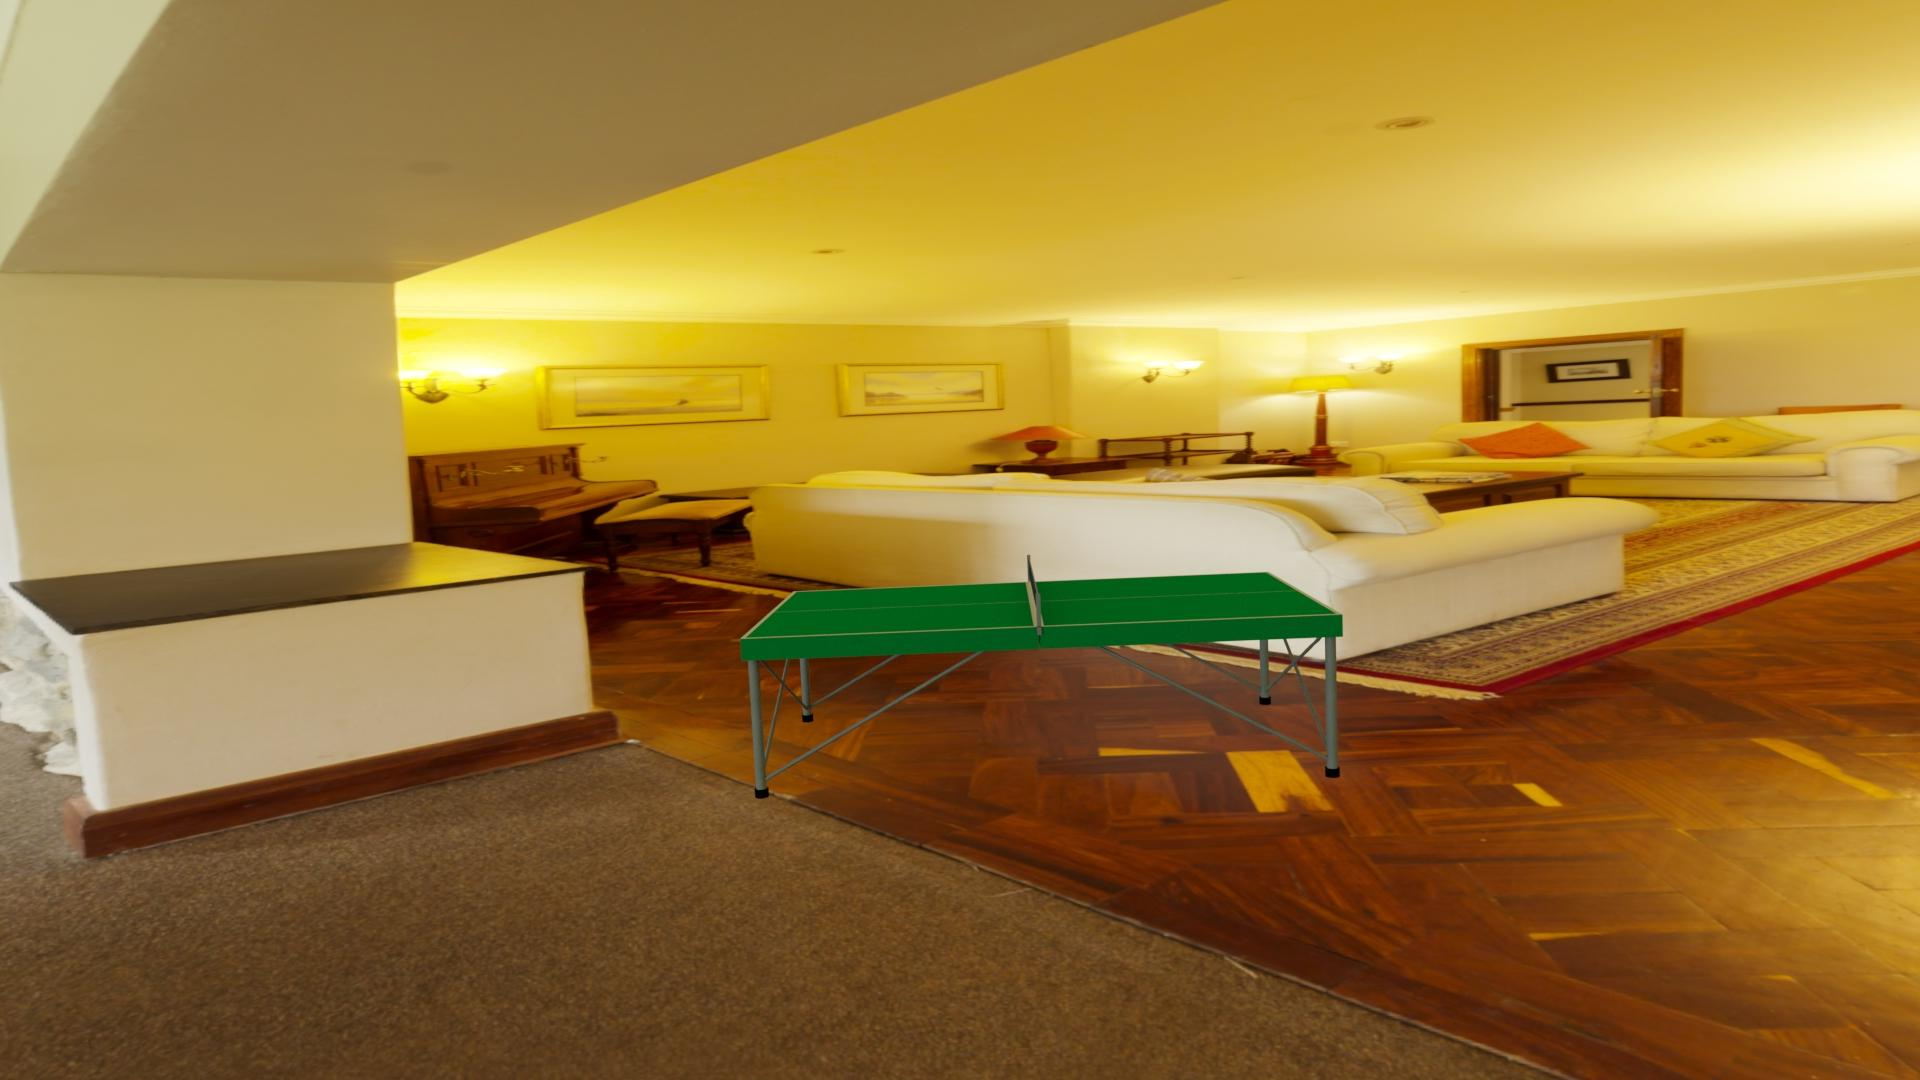table: (745, 572, 1337, 638)
